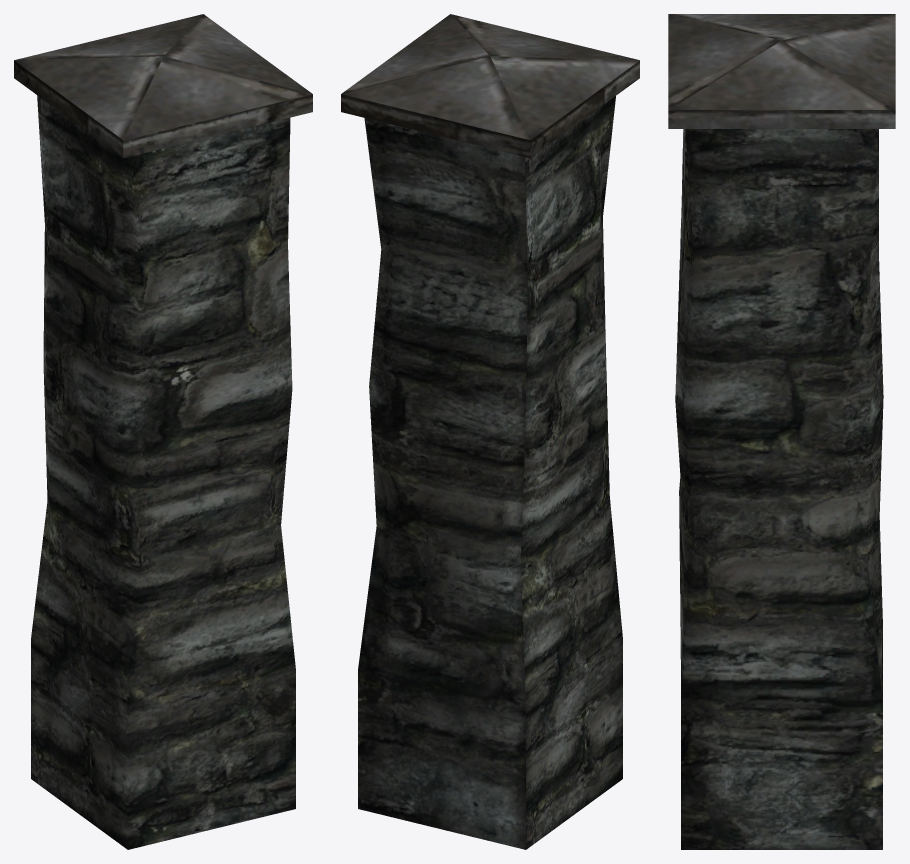
File: fencepillar01.DAE
3 views of the same model, side by side, from view 1: azimuth 30°, elevation 25°; view 2: azimuth 150°, elevation 25°; view 3: azimuth 270°, elevation 25° (orthographic). The views are drawn at different scales.
Visible parts, largest first — view 1: Object050; view 2: Object050; view 3: Object050.
Boxes of the visible parts, x1,y1,x2,y2 form: Object050: [14, 14, 312, 849]; Object050: [341, 14, 639, 849]; Object050: [668, 14, 895, 849].
Bounding box in the file's own units: 1.14 × 4.22 × 1.14.
